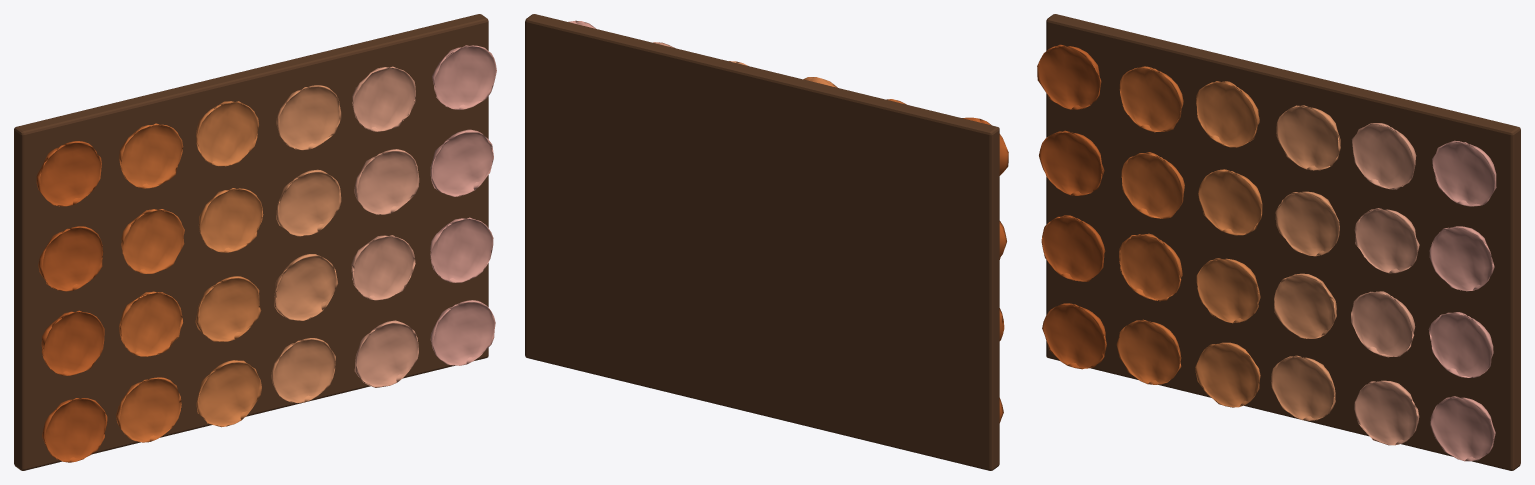
The model's file is flatball.glb.
3 views of the same model, side by side, from view 1: azimuth 30°, elevation 25°; view 2: azimuth 150°, elevation 25°; view 3: azimuth 330°, elevation 25° (orthographic).
Parts seen in each view (by area): view 1: Cube, Sphere.008, Sphere.014, Sphere.016, Sphere.009, Sphere.018, Sphere.020, Sphere, Sphere.022, Sphere.023, Sphere.002, Sphere.005 (+13 smaller); view 2: Cube; view 3: Cube, Sphere.005, Sphere.015, Sphere.012, Sphere.010, Sphere.023, Sphere.021, Sphere, Sphere.020, Sphere.019, Sphere.007, Sphere.016 (+13 smaller).
Boxes of the visible parts, bbox=[...] form: Cube: bbox=[14, 14, 488, 470]; Sphere.008: bbox=[196, 360, 261, 427]; Sphere.014: bbox=[276, 169, 341, 236]; Sphere.016: bbox=[354, 320, 418, 387]; Sphere.009: bbox=[195, 276, 261, 341]; Sphere.018: bbox=[354, 149, 419, 214]; Sphere.020: bbox=[430, 300, 495, 365]; Sphere: bbox=[42, 398, 107, 462]; Sphere.022: bbox=[430, 129, 493, 196]; Sphere.023: bbox=[432, 45, 496, 109]; Sphere.002: bbox=[38, 226, 103, 291]; Sphere.005: bbox=[119, 291, 182, 356]; Cube: bbox=[525, 14, 999, 470]; Cube: bbox=[1046, 14, 1520, 470]; Sphere.005: bbox=[1119, 233, 1182, 301]; Sphere.015: bbox=[1276, 105, 1340, 170]; Sphere.012: bbox=[1271, 355, 1335, 420]; Sphere.010: bbox=[1198, 169, 1262, 235]; Sphere.023: bbox=[1432, 140, 1496, 206]; Sphere.021: bbox=[1428, 312, 1493, 377]; Sphere: bbox=[1042, 303, 1106, 369]; Sphere.020: bbox=[1430, 396, 1495, 461]; Sphere.019: bbox=[1351, 123, 1416, 189]; Sphere.007: bbox=[1119, 66, 1183, 132]; Sphere.016: bbox=[1354, 380, 1419, 445].
Bounding box in the file's own units: 1.5 × 1.04 × 0.1232.
